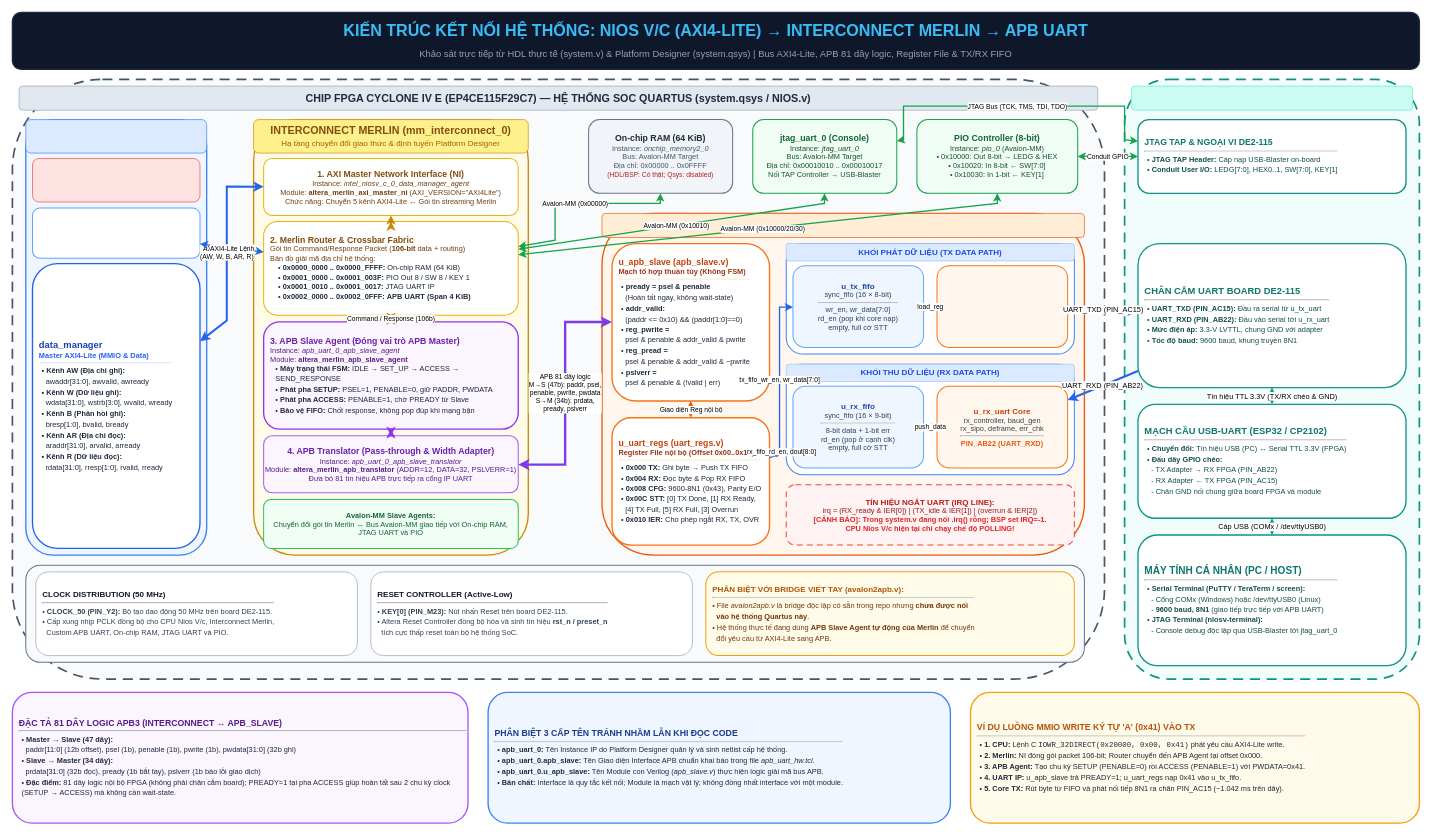
Image size: 1432x835. Some labels were removed from this diagram. Here are the shapes that lost their labels. From the top down, the centre of each, then its label:
the point at 1272,97: MÔI TRƯỜNG NGOÀI (EXTERNAL BOARDS & PC)
the point at 116,136: CPU NIOS V/c RV32IM Core (intel_niosv_c_0)
the point at 116,180: ĐẶC TẢ GIAO DIỆN HDL: enableAvalonInterface = false AXI_VERSION = AXI4Lite
the point at 116,232: instruction_manager Bus lấy lệnh (AXI4-Lite) Truy cập mã lệnh từ On-Chip RAM
the point at 842,225: CUSTOM IP: apb_uart_0 (Base: 0x0002_0000, Span: 4 KiB)
the point at 1002,306: u_tx_uart Core tx_controller, baud_gen tx_piso, tx_parity PIN_AC15 (UART_TXD)
